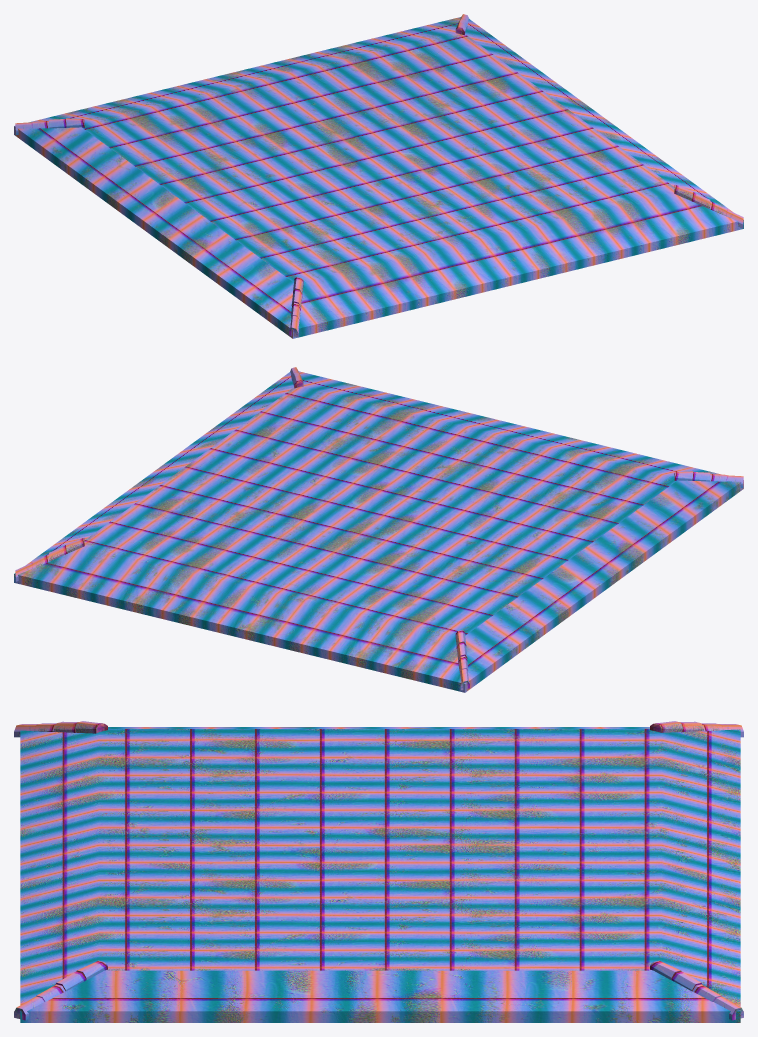
File: TopRoof_Verysmall.fbx
3 views of the same model, one above another, from view 1: azimuth 30°, elevation 25°; view 2: azimuth 150°, elevation 25°; view 3: azimuth 270°, elevation 25° (orthographic). The views are drawn at different scales.
Visible parts, largest first — view 1: TopRoof_Verysmall; view 2: TopRoof_Verysmall; view 3: TopRoof_Verysmall.
Boxes of the visible parts, <box> form: TopRoof_Verysmall: <box>14,14,743,338</box>; TopRoof_Verysmall: <box>14,367,743,692</box>; TopRoof_Verysmall: <box>14,721,743,1022</box>.
Bounding box in the file's own units: 625 × 38.51 × 674.
Materials: 1 (1 with a texture image).
